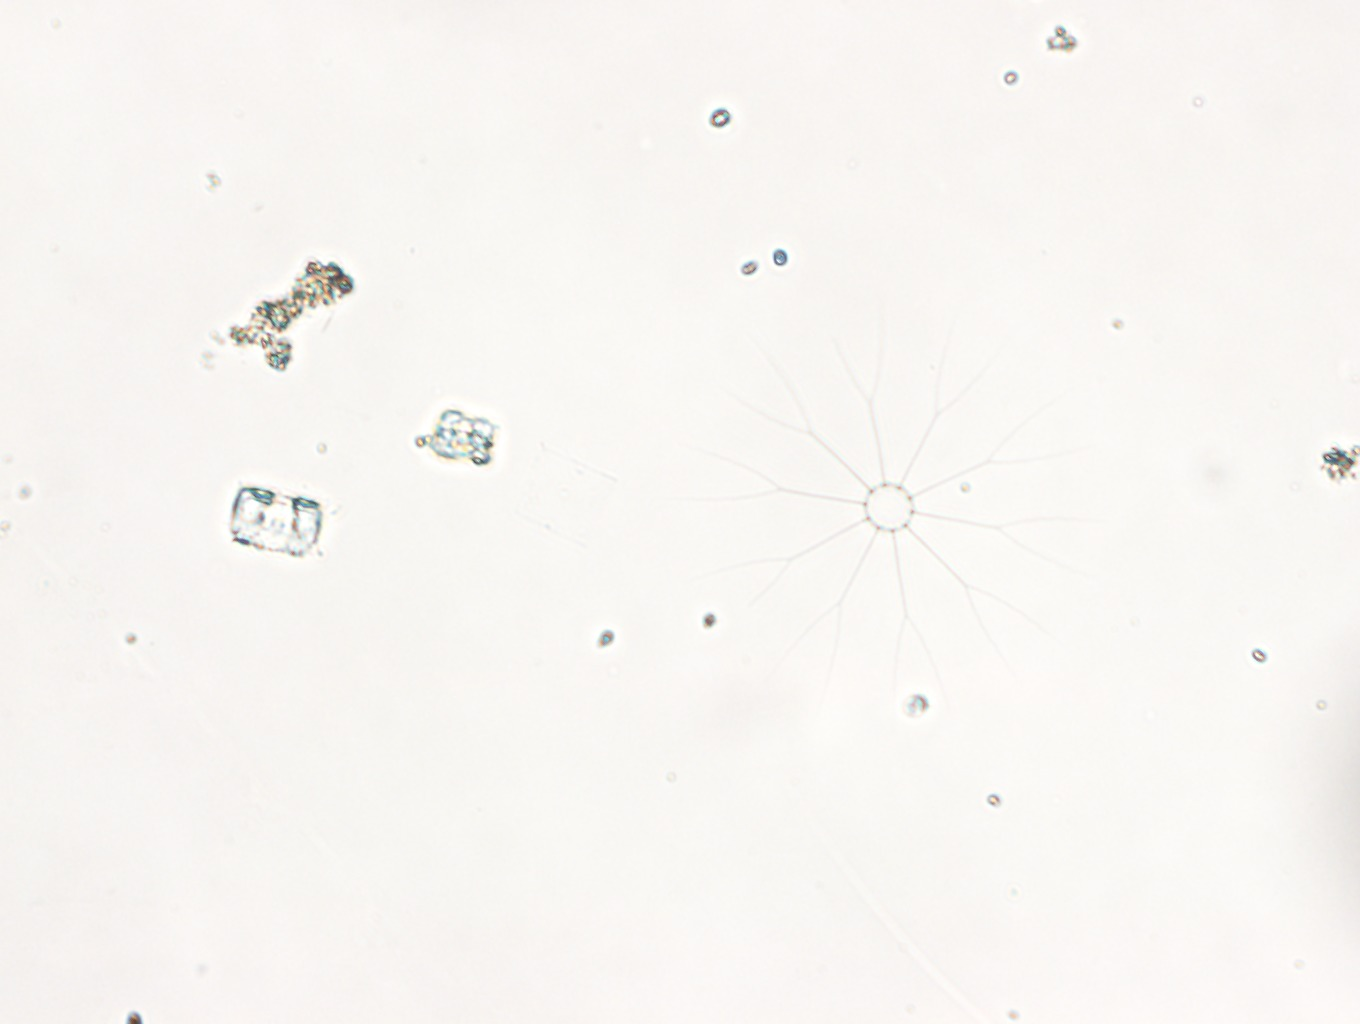bacteriastrum: (673, 322, 1097, 733)
